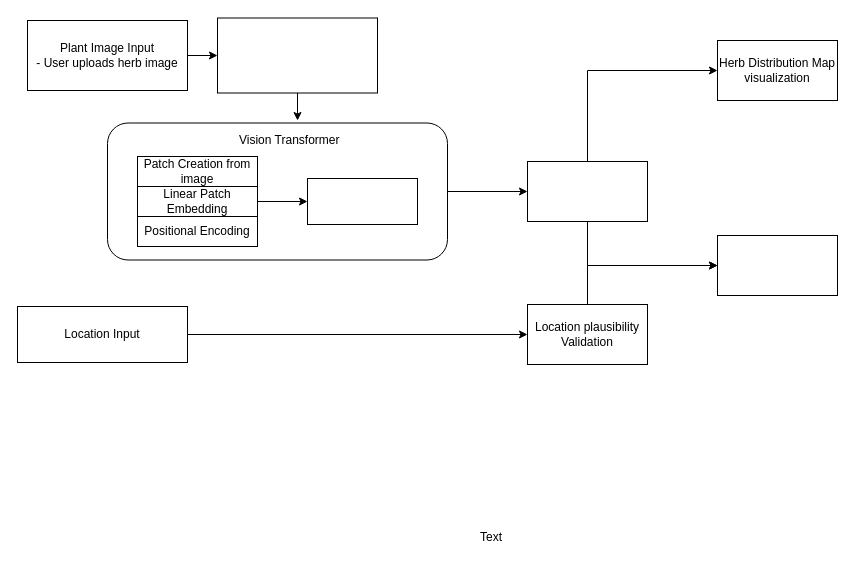
Some shapes in this 855 by 564 pixel diagram are drawn without their labels. Each missing label, with the centre of its shape:
"Final Confidence Score" goes at point (777, 265).
"Herb Label Prediction" goes at point (362, 201).
"Image Preprocessing - Resize - Normalize" goes at point (297, 55).
"Predicted Herb + VIsual Confidence" goes at point (587, 191).
